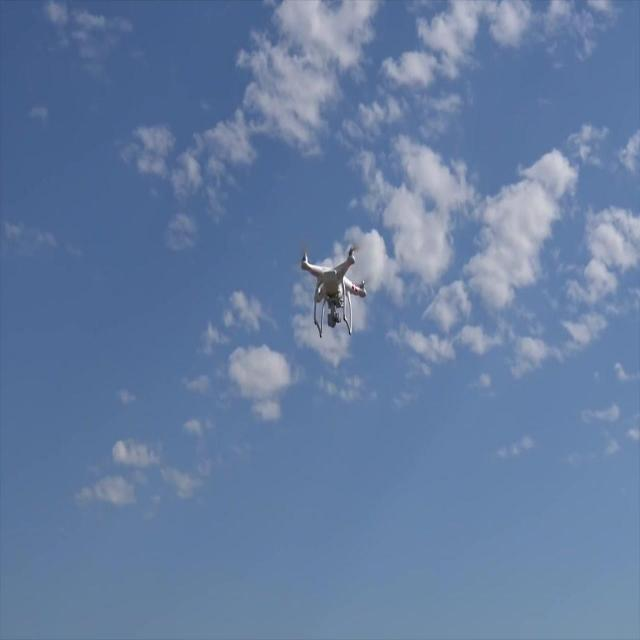UAV: (301, 247, 367, 339)
